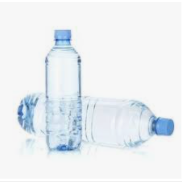Bottle: (19, 94, 174, 155), (46, 31, 82, 151)
